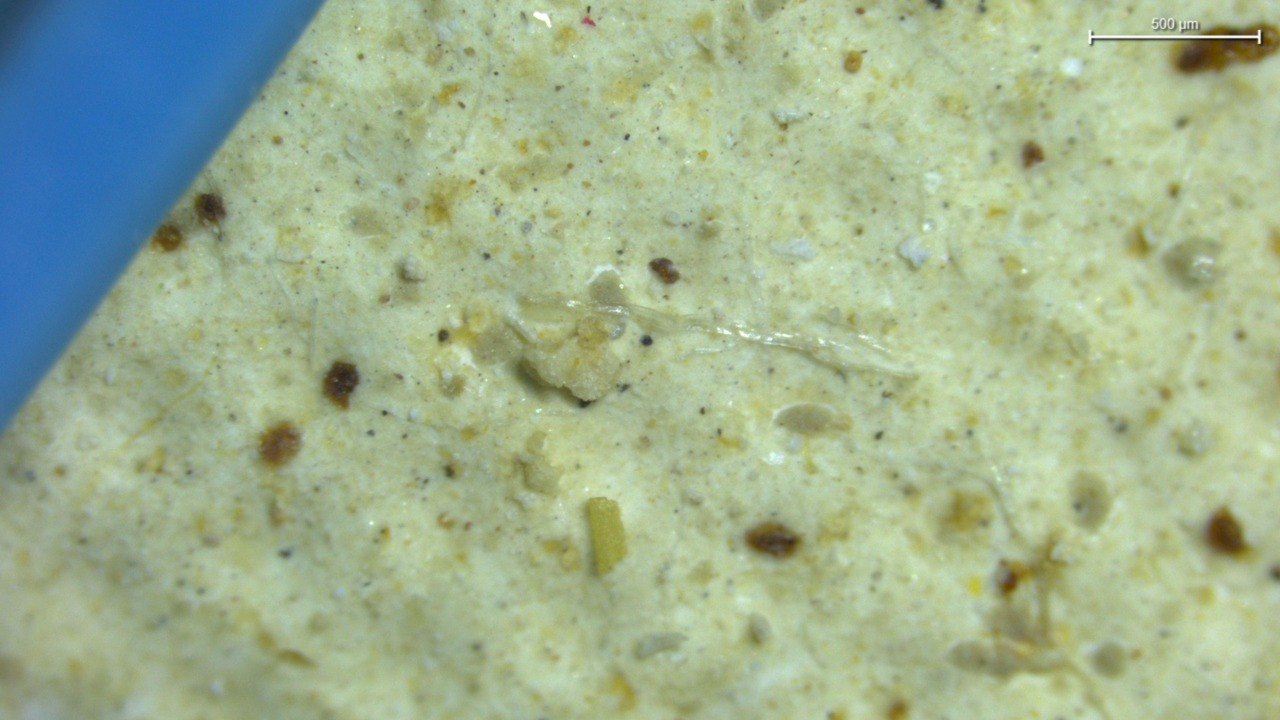microplastic_fragment: (553, 300, 914, 377), (522, 314, 626, 402), (586, 498, 626, 574), (899, 236, 931, 268), (397, 257, 424, 282)
